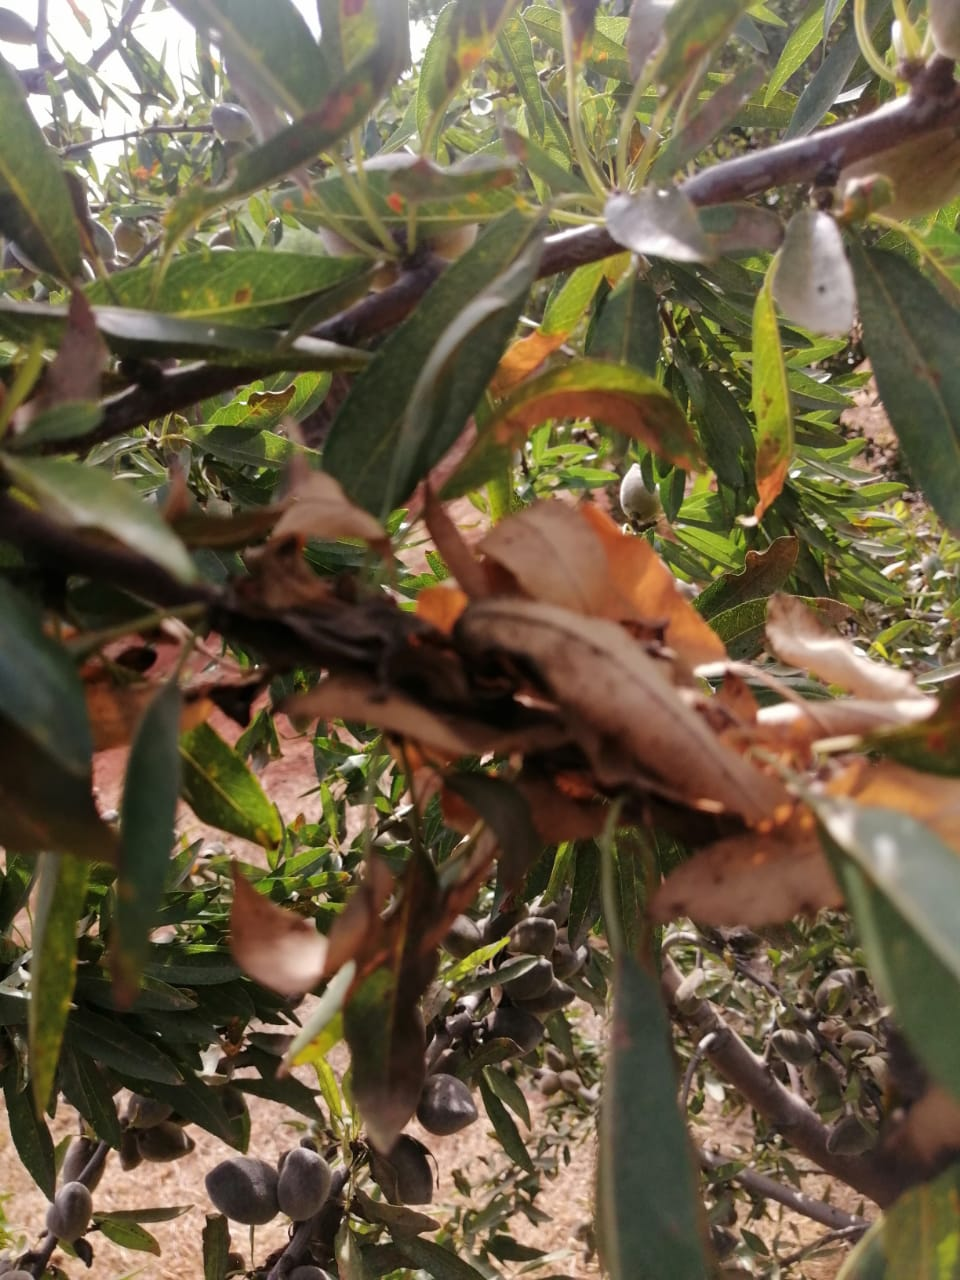scolytes: (163, 410, 799, 834)
